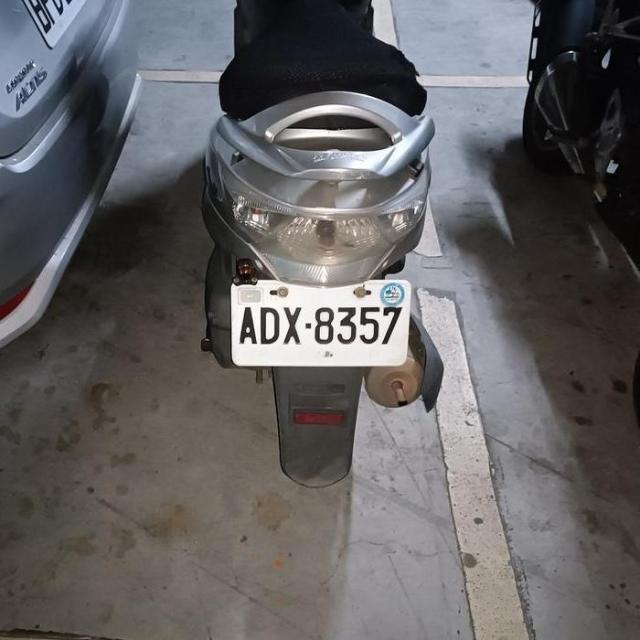W: (228, 274, 413, 368)
